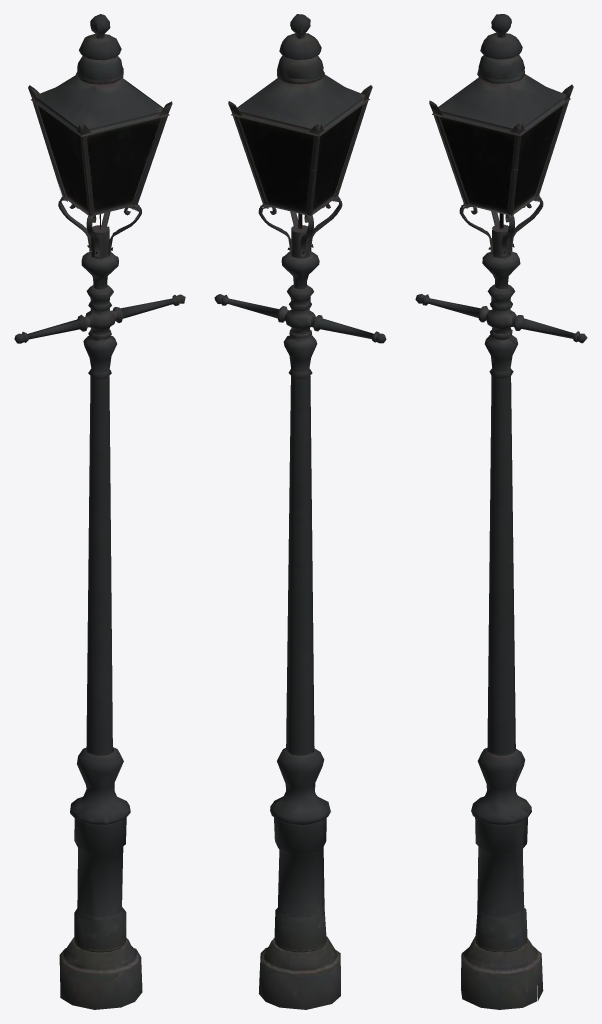
File: ph_street_lamp_01.glb
The picture shows the model from 3 angles, left to right: view 1: azimuth 30°, elevation 25°; view 2: azimuth 150°, elevation 25°; view 3: azimuth 330°, elevation 25°; orthographic projection.
Parts seen in each view (by area): view 1: street_lamp_01; view 2: street_lamp_01; view 3: street_lamp_01.
Boxes of the visible parts, x1=… form: street_lamp_01: x1=14, y1=14, x2=185, y2=1009; street_lamp_01: x1=214, y1=14, x2=386, y2=1009; street_lamp_01: x1=415, y1=14, x2=587, y2=1009.
Bounding box in the file's own units: 0.7051 × 3.87 × 0.3841.
Materials: 3 (3 with a texture image).
